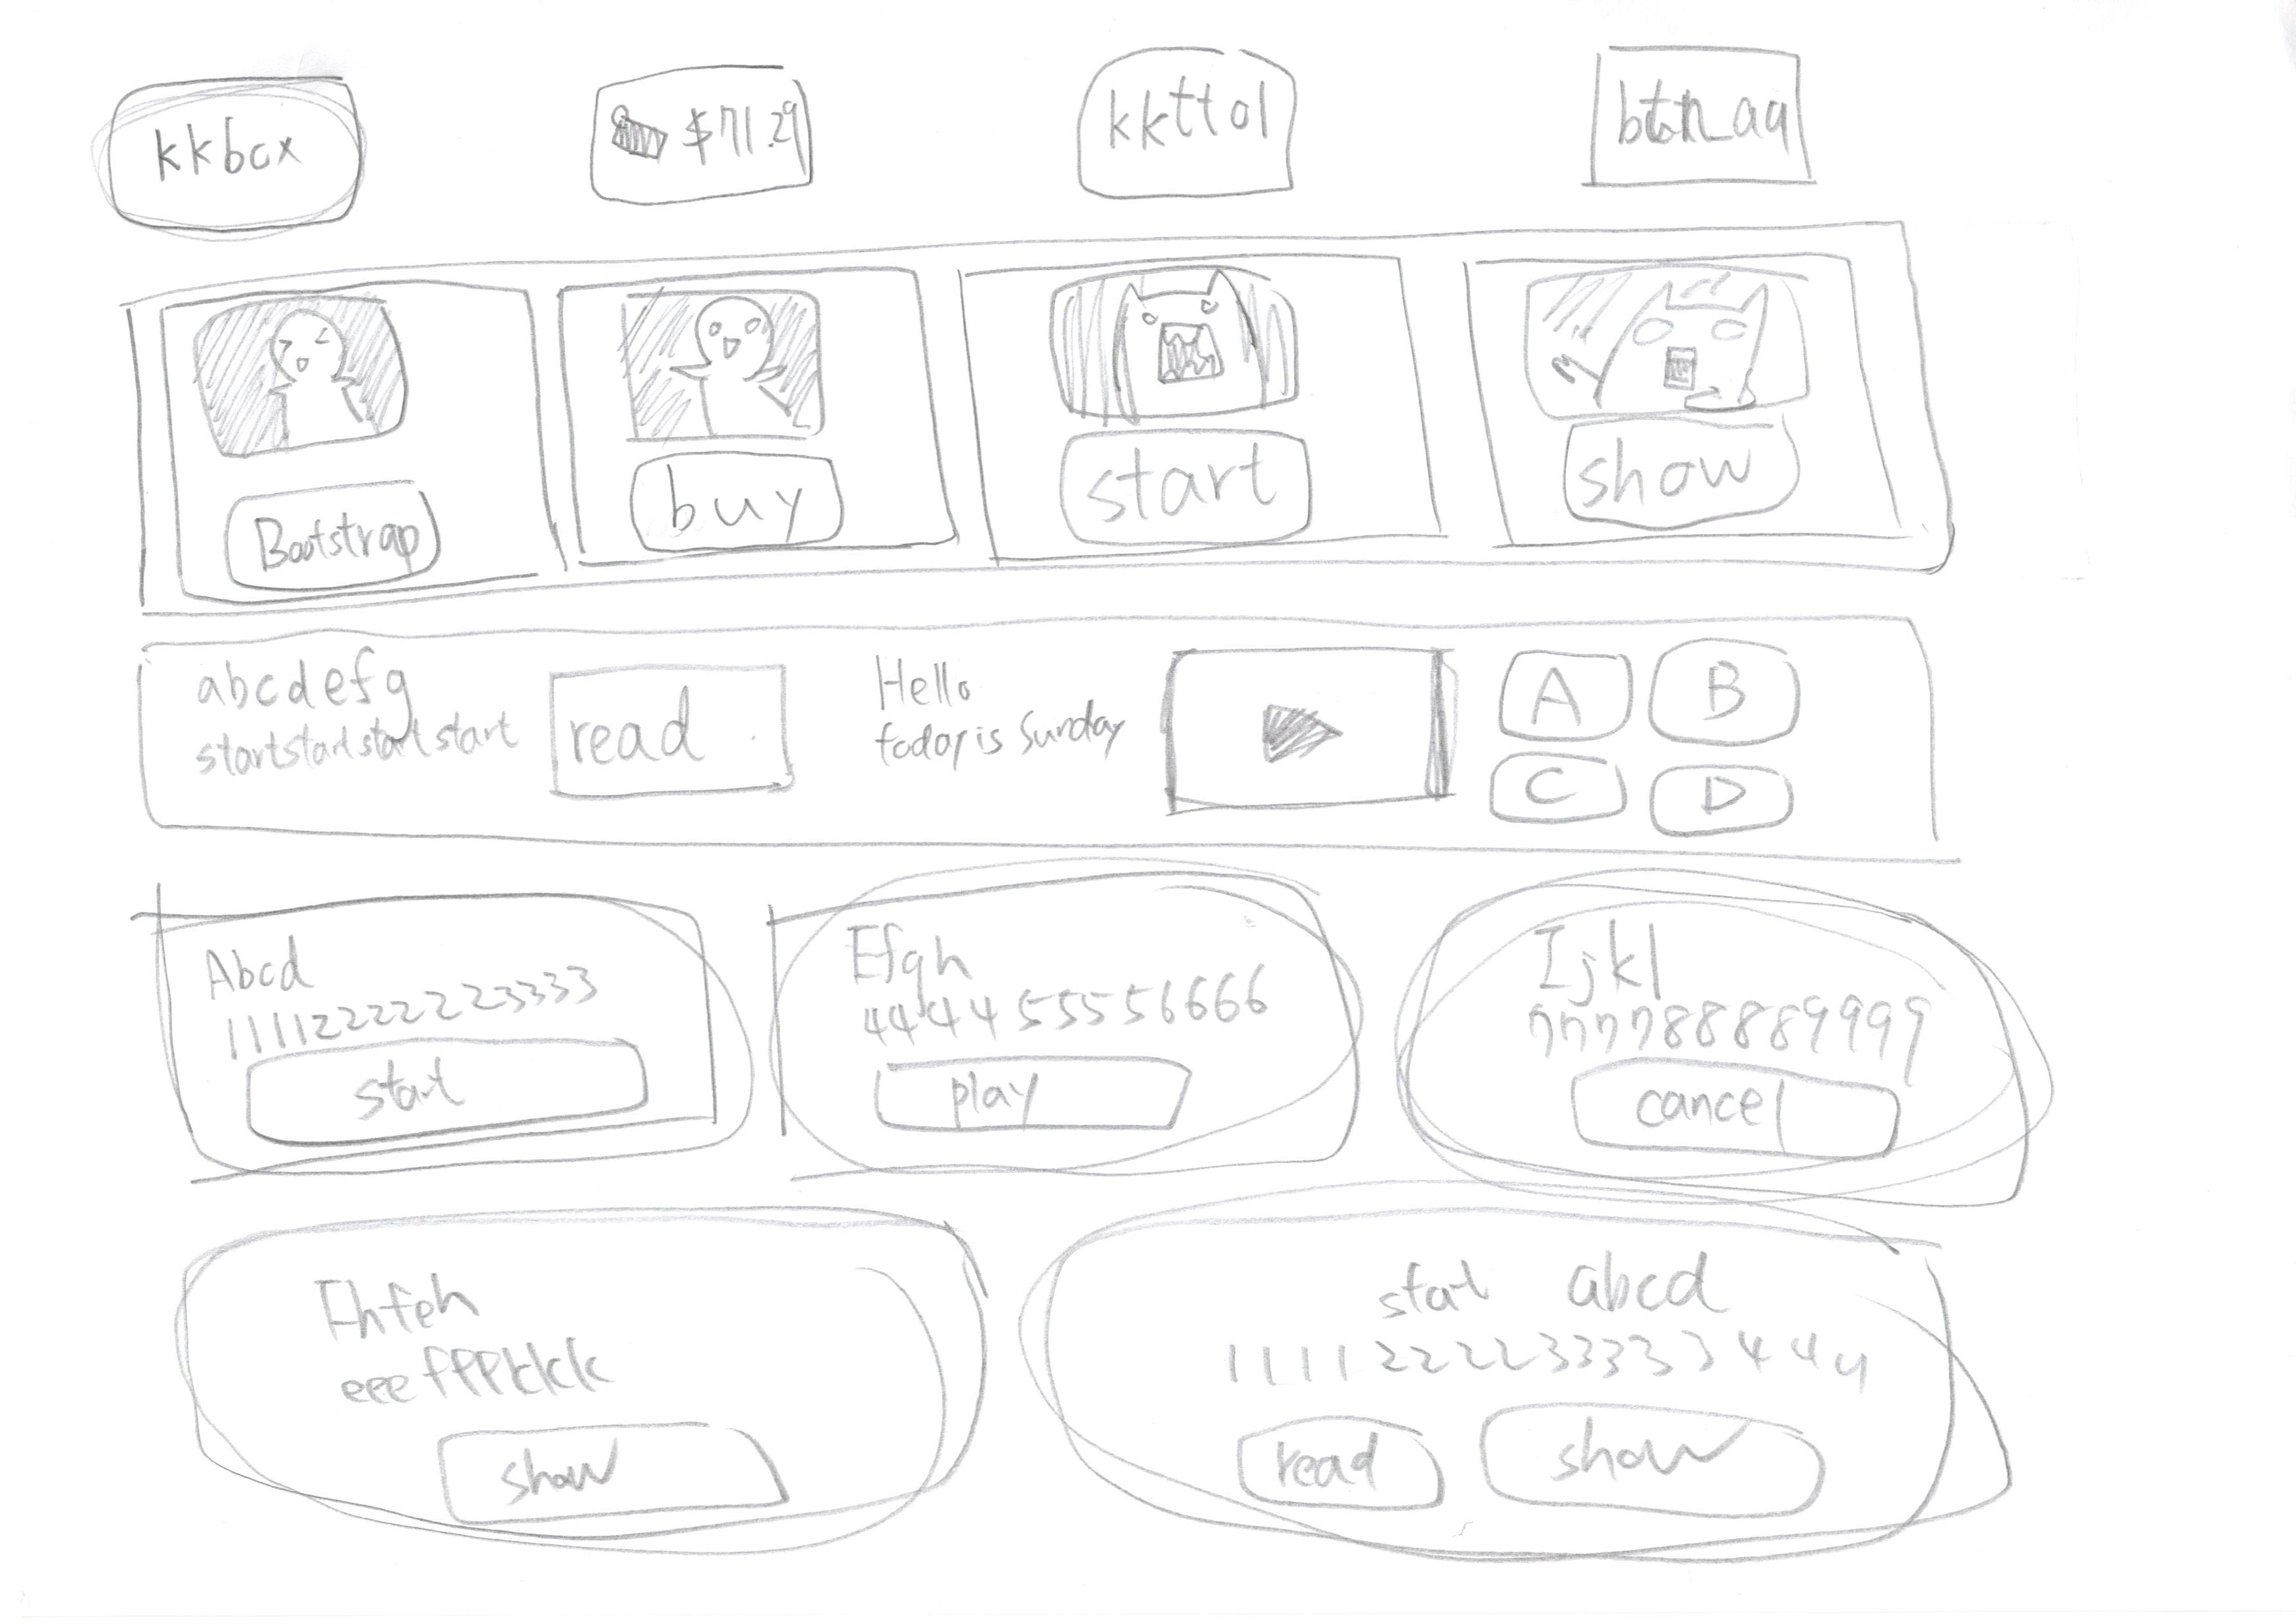btn-active: (60, 56, 403, 244), (1464, 1388, 1860, 1545), (564, 35, 876, 227), (1565, 19, 1876, 211), (1034, 26, 1345, 216), (397, 1410, 837, 1541), (229, 1026, 682, 1149), (826, 1040, 1280, 1164), (1496, 1051, 1950, 1174), (519, 638, 807, 821), (1037, 420, 1327, 550), (1551, 410, 1841, 540), (1217, 1403, 1468, 1533), (610, 446, 854, 573), (218, 469, 464, 594), (1635, 631, 1806, 747), (1642, 743, 1814, 858), (1477, 729, 1647, 844), (1482, 638, 1638, 745)
quadruple: (1007, 1179, 2089, 1589), (97, 1181, 1023, 1582), (941, 237, 1480, 582), (1431, 236, 1971, 580), (114, 264, 578, 608), (543, 251, 976, 594)
row: (0, 1174, 2222, 1624), (0, 838, 2213, 1213), (0, 228, 2217, 594), (0, 582, 2203, 870), (23, 0, 2208, 236)
single: (70, 591, 2060, 882)
text: (1174, 1222, 1876, 1385), (278, 1258, 684, 1406), (832, 919, 1280, 1044), (185, 902, 635, 1025), (1500, 921, 1948, 1044), (188, 643, 505, 798), (825, 647, 1141, 800)
